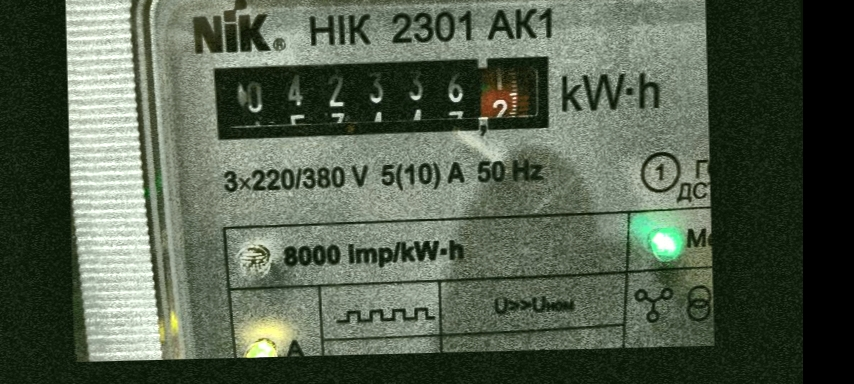0: (242, 81, 263, 117)
1: (490, 66, 504, 96)
2: (323, 75, 344, 112), (488, 100, 507, 122)
3: (364, 70, 384, 109), (402, 69, 423, 106)
4: (283, 73, 303, 111)
6: (441, 71, 464, 107)
screen: (204, 49, 558, 151)
